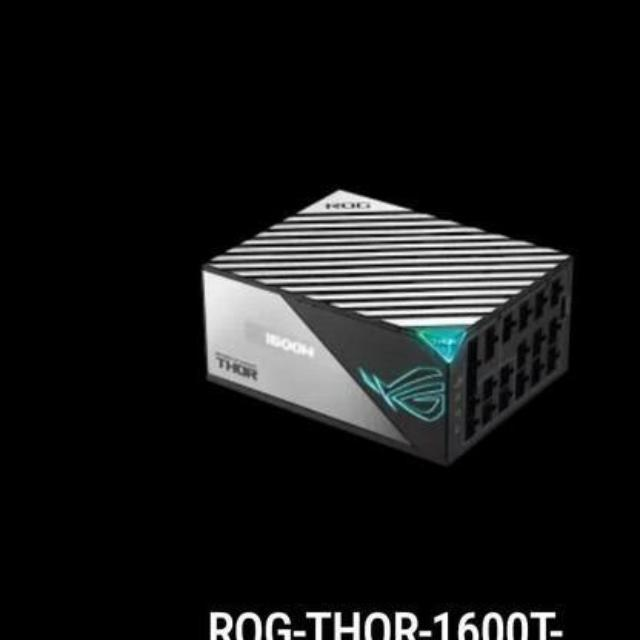PSU: (180, 174, 588, 472)
